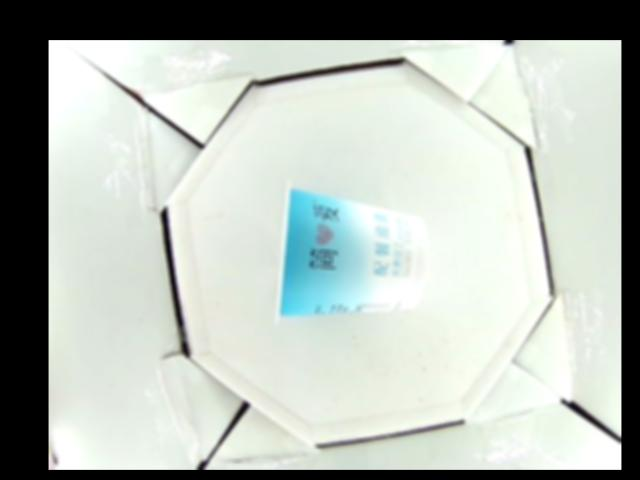Cup: (271, 182, 426, 320)
